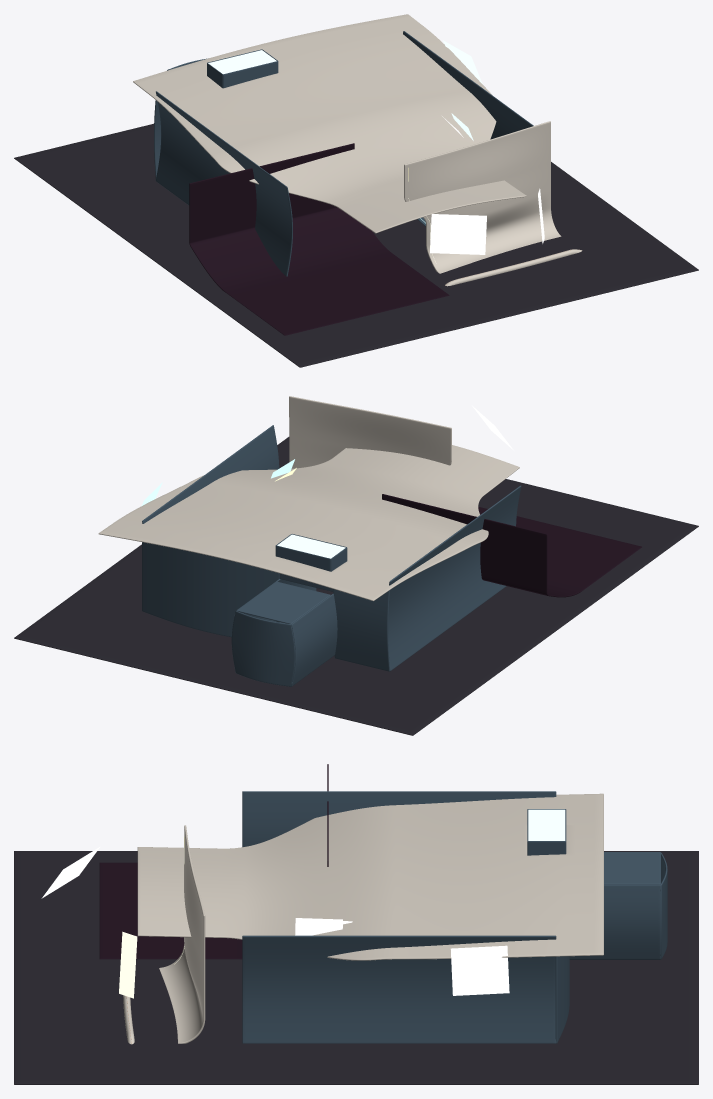
File: chamber.glb
The picture shows the model from 3 angles, top to bottom: view 1: azimuth 30°, elevation 25°; view 2: azimuth 150°, elevation 25°; view 3: azimuth 270°, elevation 25°; orthographic projection. The views are drawn at different scales.
Visible parts, largest first — view 1: Shared_Light_Chamber, Shared_Unfolding_Canopy, Shared_Sculpted_Cove, Warm portrait softbox, Repaired_Ceiling_Wall_Joint, Shared_Sculpted_Foreground; view 2: Shared_Light_Chamber, Shared_Unfolding_Canopy, Repaired_Ceiling_Wall_Joint, Shared_Sculpted_Cove; view 3: Shared_Light_Chamber, Shared_Unfolding_Canopy, Shared_Sculpted_Cove, Far cool volume, Repaired_Ceiling_Wall_Joint, Warm portrait rim, Cool depth softbox, Warm portrait softbox.
Part boxes in pixels (<box>): Shared_Light_Chamber: <box>14,31,698,367</box>; Shared_Unfolding_Canopy: <box>133,14,526,233</box>; Shared_Sculpted_Cove: <box>404,121,561,273</box>; Warm portrait softbox: <box>430,214,486,254</box>; Repaired_Ceiling_Wall_Joint: <box>154,49,278,179</box>; Shared_Sculpted_Foreground: <box>445,249,582,286</box>; Shared_Light_Chamber: <box>14,425,698,735</box>; Shared_Unfolding_Canopy: <box>98,445,519,601</box>; Repaired_Ceiling_Wall_Joint: <box>142,534,389,671</box>; Shared_Sculpted_Cove: <box>289,396,451,468</box>; Shared_Light_Chamber: <box>14,764,698,1084</box>; Shared_Unfolding_Canopy: <box>137,793,603,960</box>; Shared_Sculpted_Cove: <box>159,825,205,1043</box>; Far cool volume: <box>450,945,509,995</box>; Repaired_Ceiling_Wall_Joint: <box>527,809,569,1043</box>; Warm portrait rim: <box>119,931,137,998</box>; Cool depth softbox: <box>295,918,342,935</box>; Warm portrait softbox: <box>41,847,99,898</box>.
Bounding box in the file's own units: 58 × 17.1 × 72.
